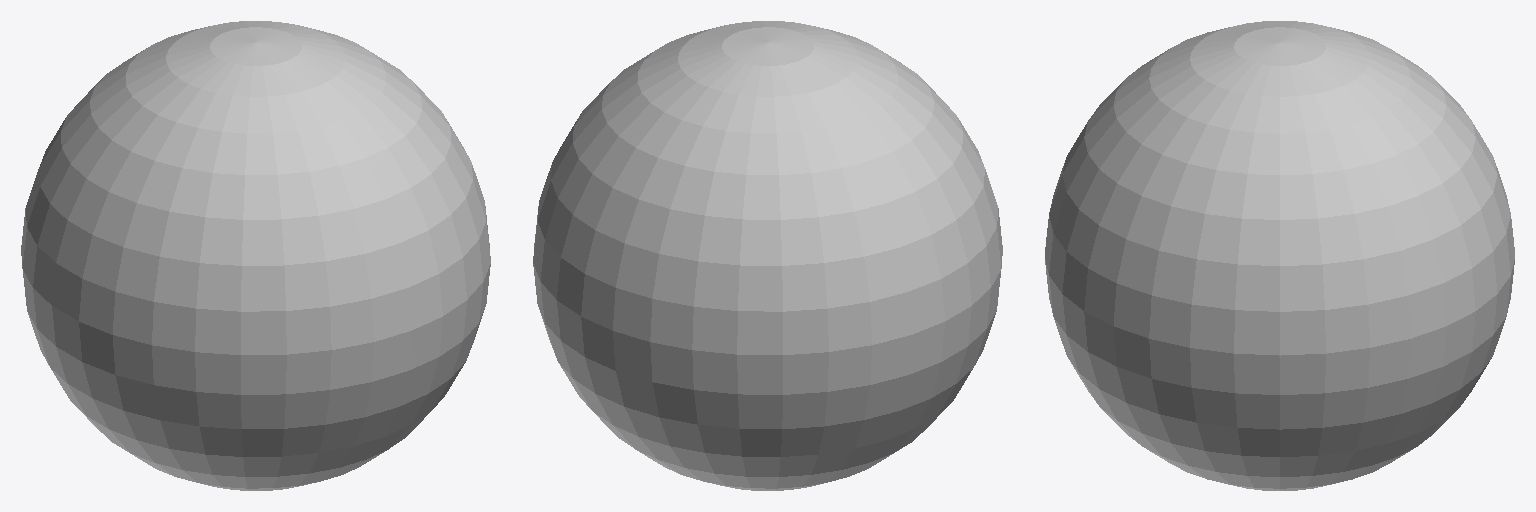
The model's file is jupiter.obj.
3 views of the same model, side by side, from view 1: azimuth 30°, elevation 25°; view 2: azimuth 150°, elevation 25°; view 3: azimuth 270°, elevation 25° (orthographic).
Visible parts, largest first — view 1: Sphere.006_Material.007_0; view 2: Sphere.006_Material.007_0; view 3: Sphere.006_Material.007_0.
Boxes of the visible parts, box(x1,y1,x2,y2) form: Sphere.006_Material.007_0: box(21, 21, 490, 490); Sphere.006_Material.007_0: box(533, 21, 1002, 490); Sphere.006_Material.007_0: box(1045, 21, 1514, 490).
Size of the model in its own units: 3.41 by 3.41 by 3.41.